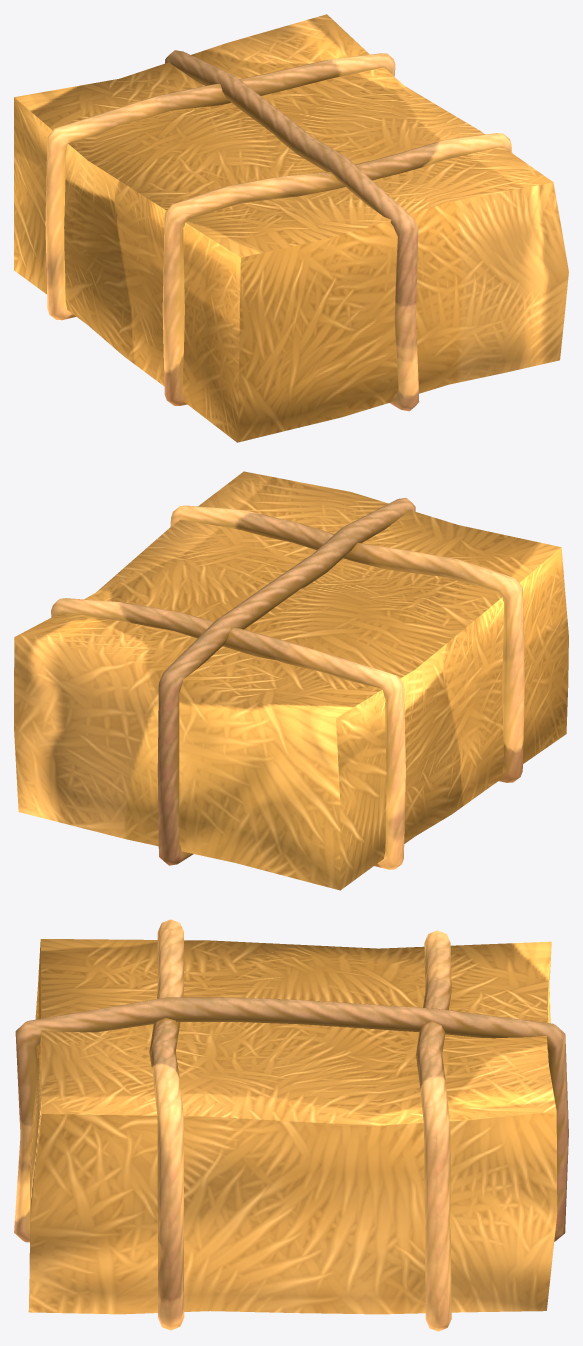
File: SM_Hay.fbx
3 views of the same model, one above another, from view 1: azimuth 30°, elevation 25°; view 2: azimuth 150°, elevation 25°; view 3: azimuth 270°, elevation 25° (orthographic). The views are drawn at different scales.
Visible parts, largest first — view 1: SM_Hay_LOD0; view 2: SM_Hay_LOD0; view 3: SM_Hay_LOD0.
Boxes of the visible parts, left/top/right/bottom form: SM_Hay_LOD0: left=14, top=14, right=568, bottom=442; SM_Hay_LOD0: left=14, top=471, right=568, bottom=890; SM_Hay_LOD0: left=14, top=919, right=568, bottom=1331.
Bounding box in the file's own units: 70.28 × 84.48 × 42.
